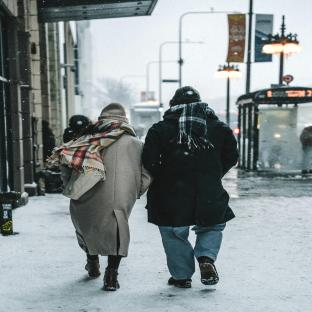Human: (48, 103, 153, 291), (142, 86, 239, 288)
